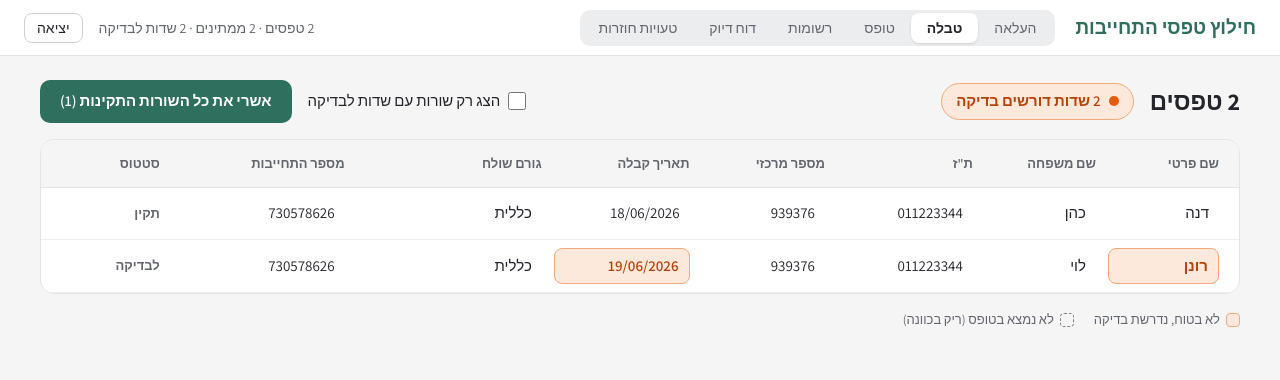
Scenario: App › approving all clean rows from the table updates the totals
Expected: the text "רונן" is shown, [1108,248,1219,284]
What coordinates should you click on to do the following:
click the button "אשרי את כל השורות התקינות (1)"
I would click on:
 (166, 101)
Its box is [40,80,292,122].
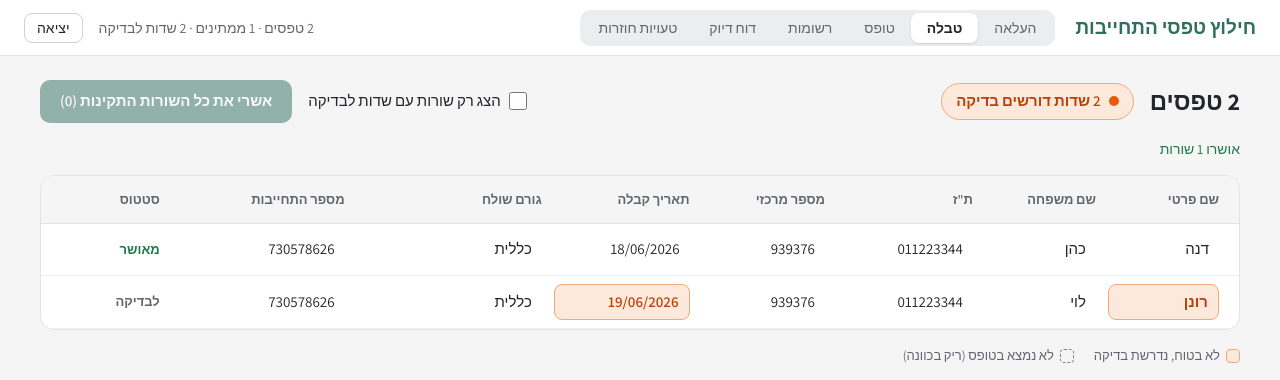
Result: the header shows "1 ממתינים" at [0,0,1279,56]
